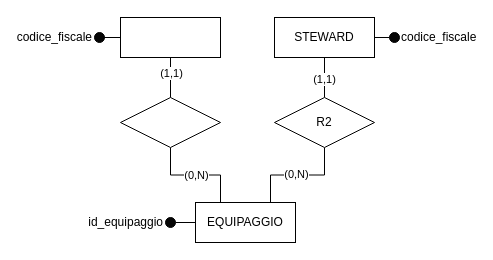
The diagram is 493 pixels wide and 260 high, and some of its shapes have lost their labels. Here are the shapes that lost their labels. From the top down, the centre of each, then its label:
At pixel 170 37: "HOSTESS".
At pixel 170 122: "R1".
